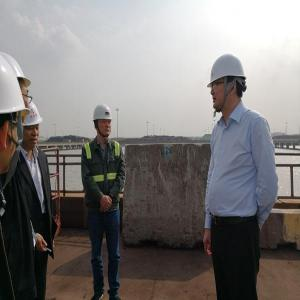white: (207, 53, 249, 121), (1, 57, 23, 176), (21, 100, 41, 152), (93, 103, 115, 140)
